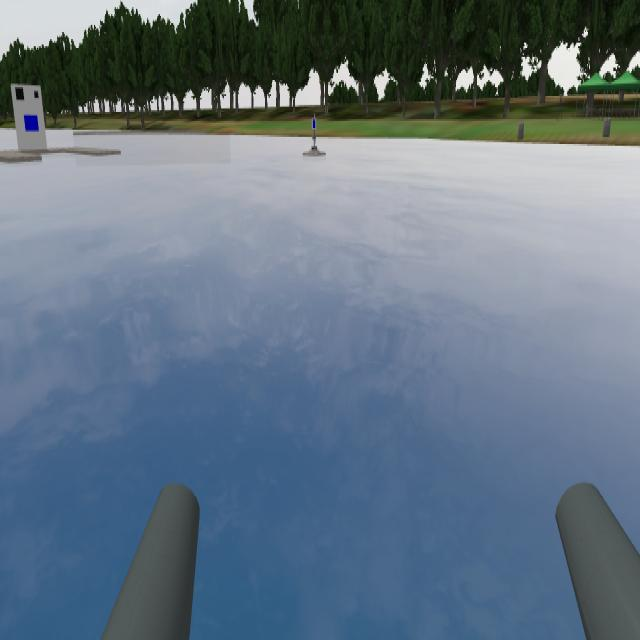blue_pole: (310, 114, 322, 140)
